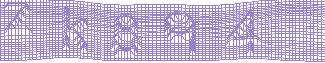4: (224, 8, 262, 57)
8: (110, 12, 143, 58)
k: (60, 5, 88, 52)
q: (163, 10, 197, 57)
z: (2, 1, 33, 36)
